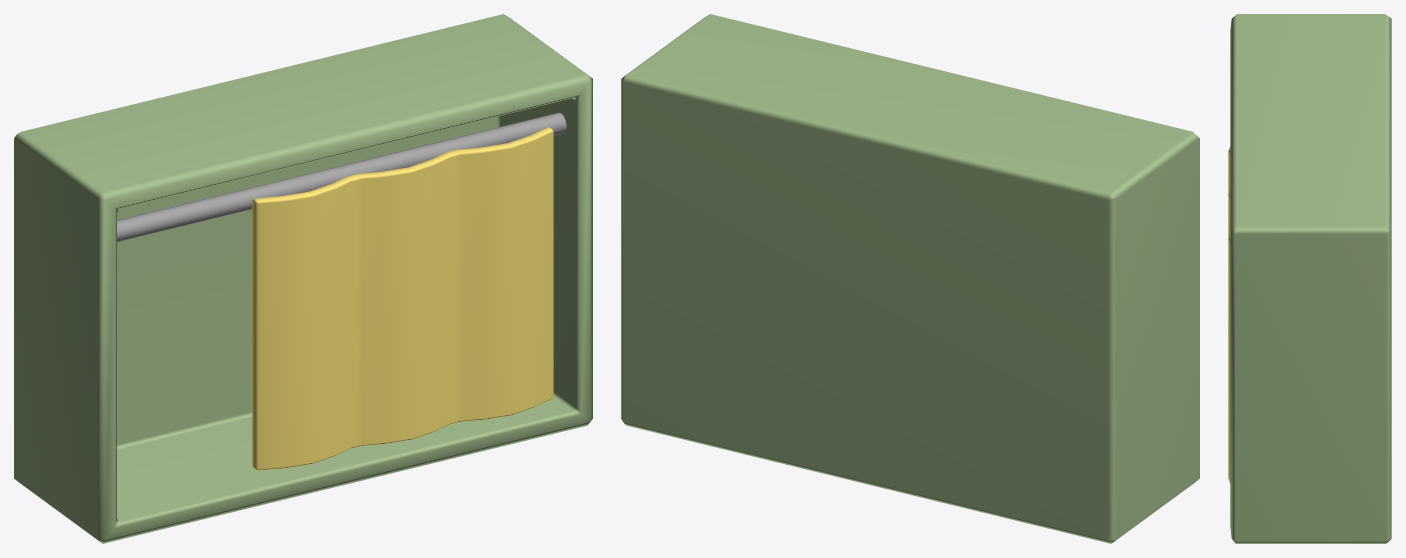
File: Kitchen_Cabinet_10.glb
The picture shows the model from 3 angles, left to right: view 1: azimuth 30°, elevation 25°; view 2: azimuth 150°, elevation 25°; view 3: azimuth 270°, elevation 25°; orthographic projection. The views are drawn at different scales.
Visible parts, largest first — view 1: Kitchen_Cabinet_10; view 2: Kitchen_Cabinet_10; view 3: Kitchen_Cabinet_10.
Boxes of the visible parts, left/top/right/bottom form: Kitchen_Cabinet_10: left=14, top=14, right=592, bottom=543; Kitchen_Cabinet_10: left=621, top=14, right=1199, bottom=543; Kitchen_Cabinet_10: left=1228, top=14, right=1391, bottom=543.
Size of the model in its own units: 1.06 by 0.7186 by 0.3355.
1 material, 1 textured.
